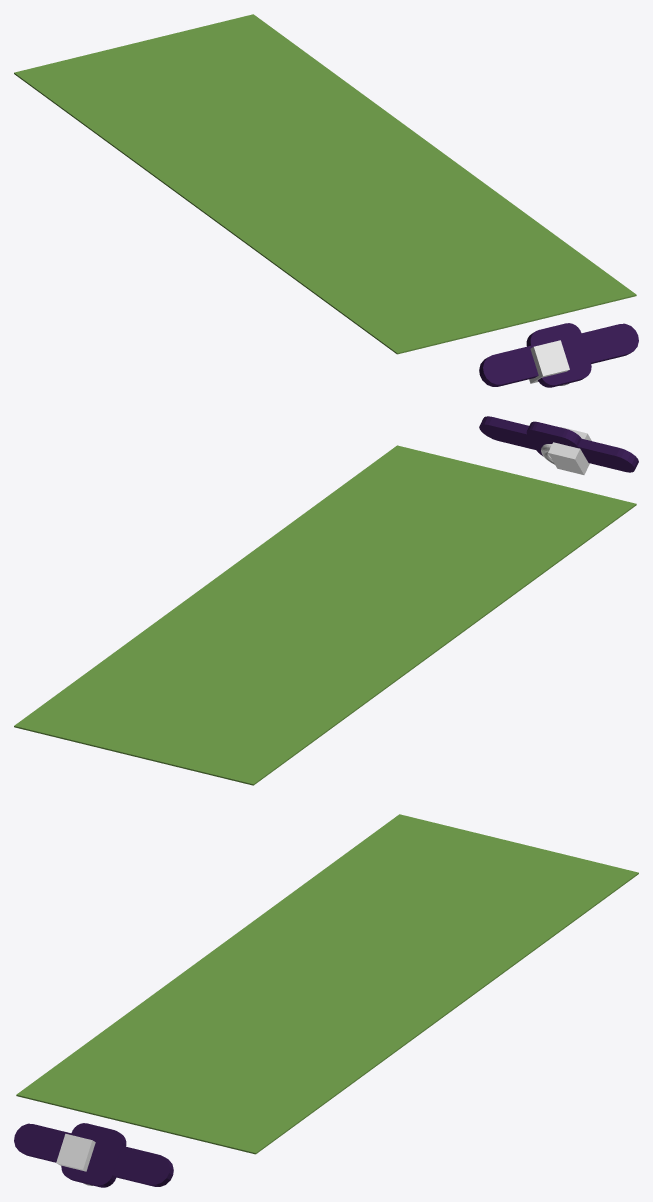
Rendered from Ring Hop.fbx.
3 renders of one model, top to bottom at view 1: azimuth 30°, elevation 25°; view 2: azimuth 150°, elevation 25°; view 3: azimuth 330°, elevation 25°, orthographic.
Parts seen in each view (by area): view 1: 05 Ground, 03 Hole Unit, 03 Hole Unit.002, 01 Player; view 2: 05 Ground, 03 Hole Unit, 03 Hole Unit.002, 01 Player; view 3: 05 Ground, 03 Hole Unit, 03 Hole Unit.002, 01 Player.
Part boxes in pixels (<box>): 05 Ground: <box>14,14,636,354</box>; 03 Hole Unit: <box>479,323,638,386</box>; 03 Hole Unit.002: <box>526,323,591,387</box>; 01 Player: <box>529,340,569,383</box>; 05 Ground: <box>14,445,636,785</box>; 03 Hole Unit: <box>479,416,638,472</box>; 03 Hole Unit.002: <box>526,421,581,456</box>; 01 Player: <box>548,427,591,474</box>; 05 Ground: <box>16,814,638,1154</box>; 03 Hole Unit: <box>14,1123,173,1186</box>; 03 Hole Unit.002: <box>61,1123,126,1187</box>; 01 Player: <box>56,1133,95,1171</box>.
Bounding box in the file's own units: 1775 × 356 × 5598.
